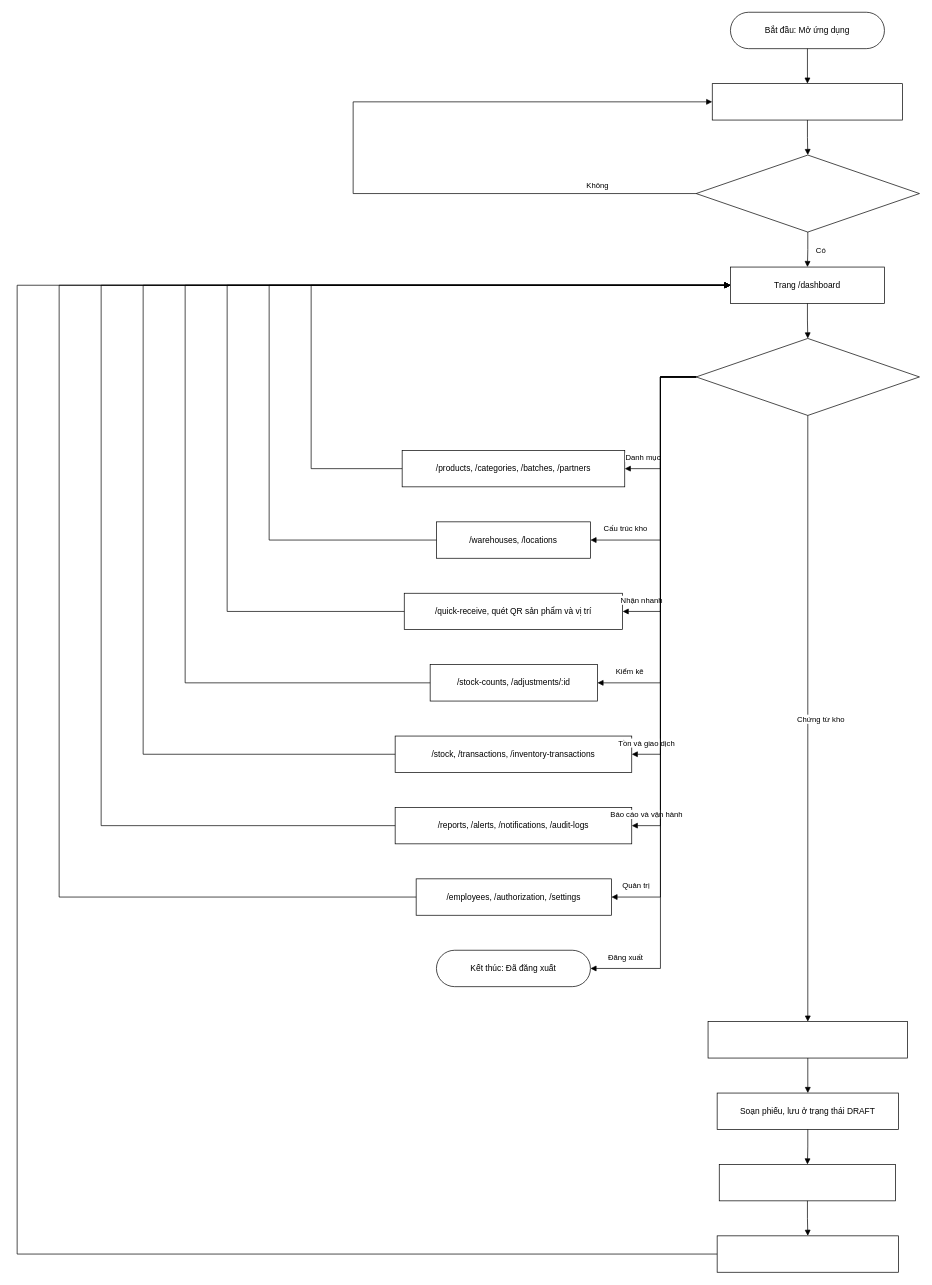
Image size: 932x1285. Some labels were removed from this diagram. Each missing label, with the centre of its shape:
"/receipts/:id, /issues/:id, /transfers" belongs at (807,1039).
"Chọn nhóm chức năng" belongs at (807,376).
"Quản lý xác nhận hoặc duyệt phiếu" belongs at (807,1182).
"Trang /login, nhập email và mật khẩu" belongs at (807,101).
"Xem tồn kho đã cập nhật tại /stock" belongs at (807,1253).
"Xác thực hợp lệ?" belongs at (807,193).
